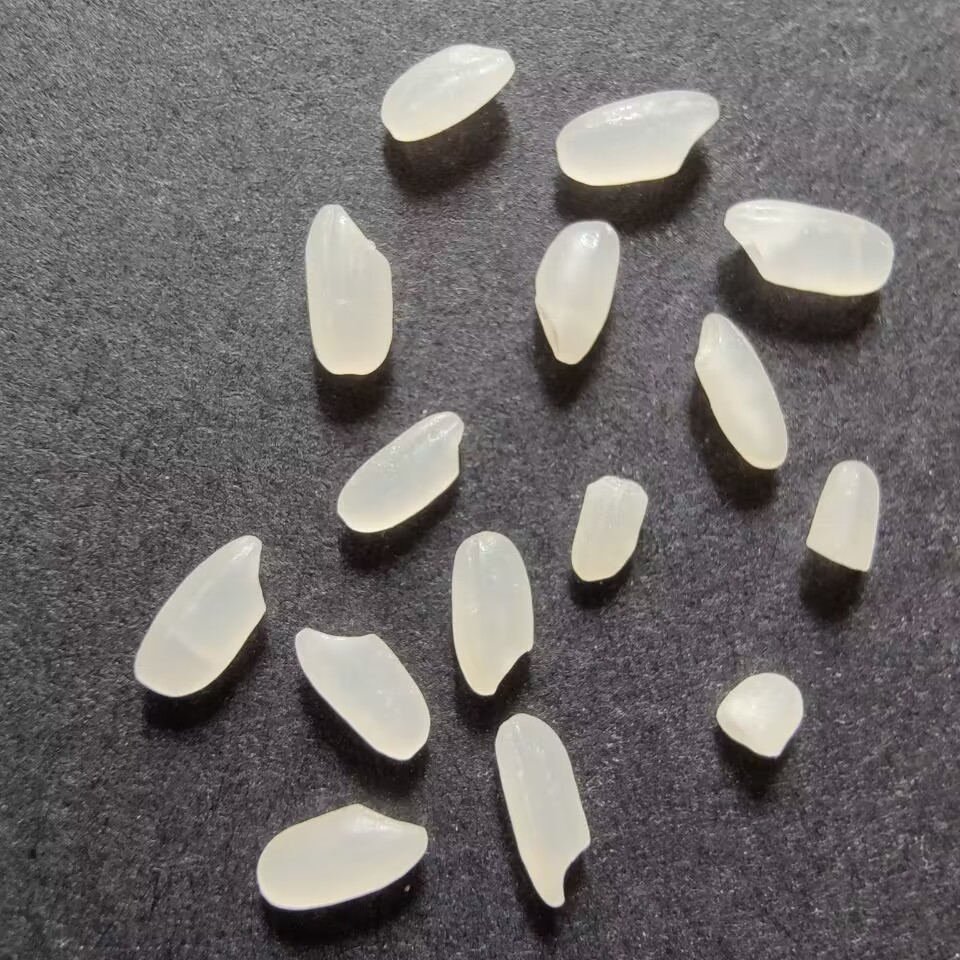broken: (795, 457, 896, 577), (709, 666, 817, 764), (561, 473, 654, 584)
rice: (127, 529, 271, 703), (490, 706, 598, 911), (288, 623, 436, 770), (250, 796, 435, 912), (297, 198, 403, 383), (719, 195, 897, 302), (549, 86, 721, 189), (690, 308, 794, 478), (332, 407, 468, 537), (446, 529, 540, 700), (526, 213, 625, 371), (376, 39, 519, 146)
